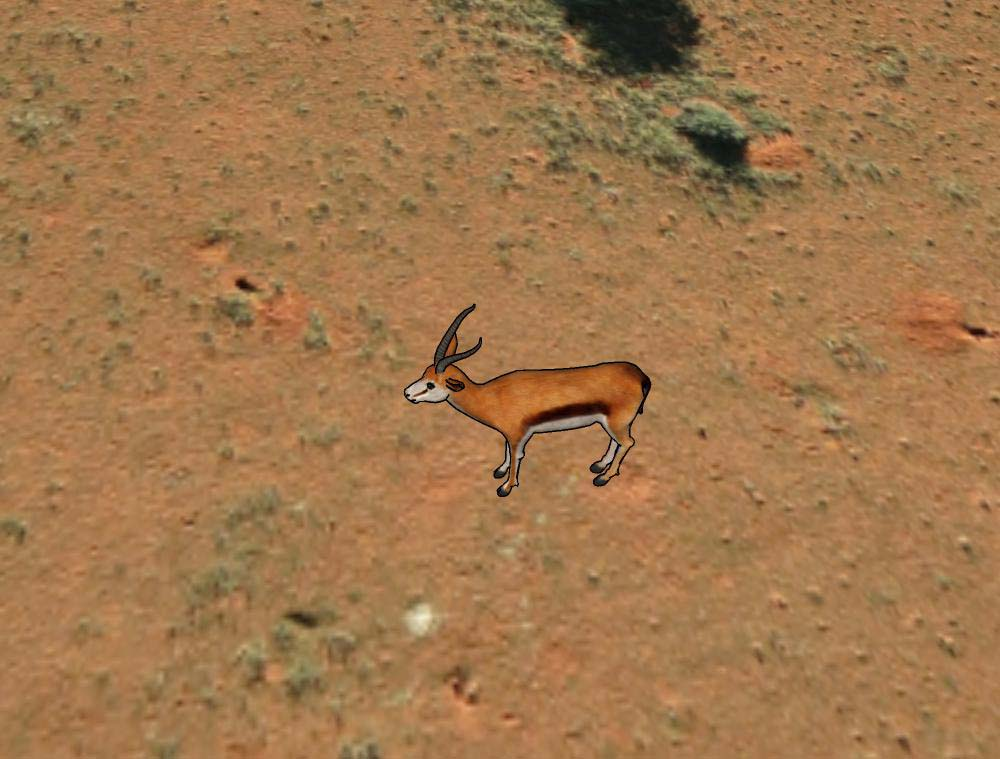springbok: (401, 303, 657, 496)
